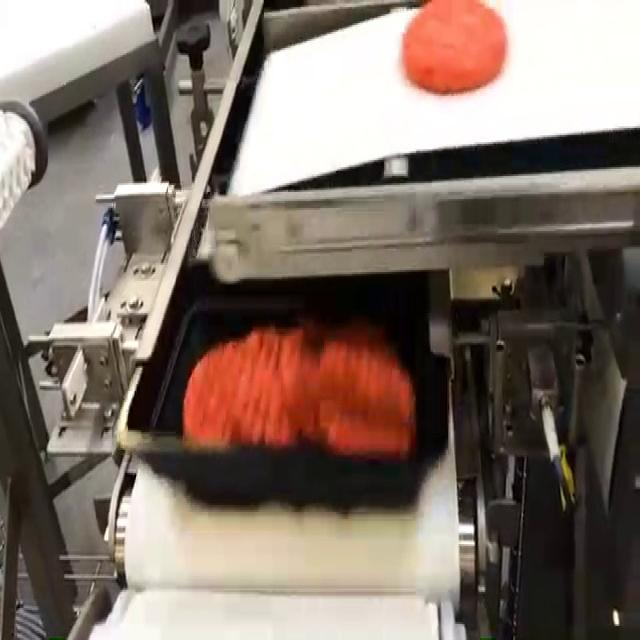4-hamburguer: (183, 325, 415, 455)
